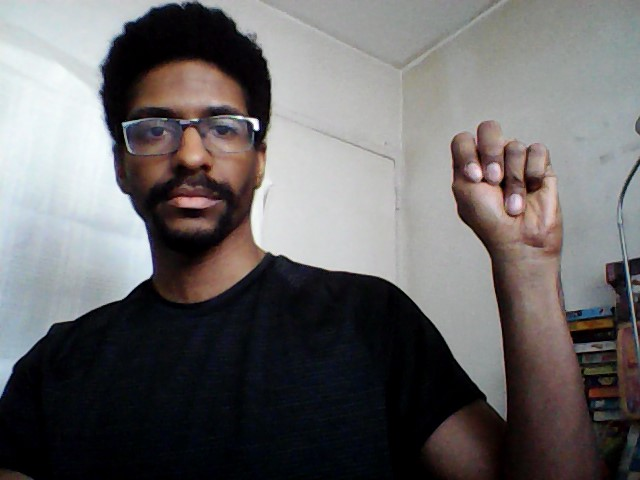n: (449, 115, 569, 259)
